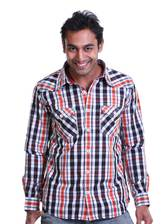clothoes: (17, 62, 155, 220)
